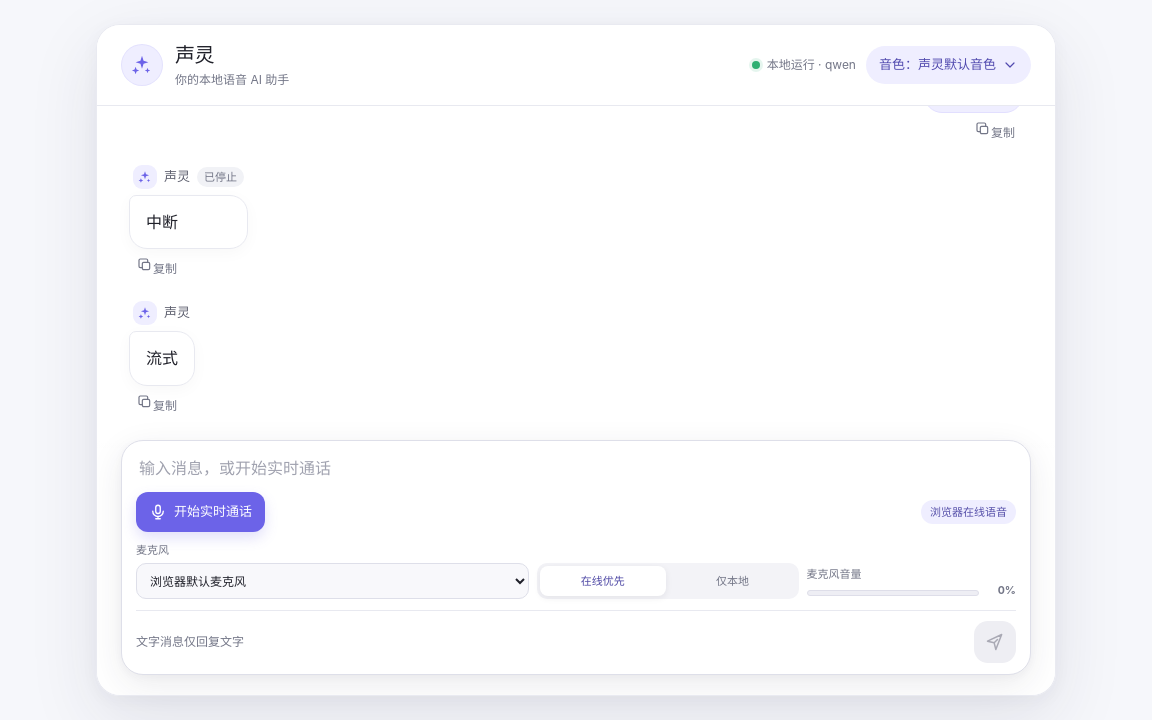
Scenario: App › opens and closes the accessible voice dialog
(page scrolled)
Step 1. Click the button "音色：声灵默认音色" → (948,65), box 866,46 -> 1031,84
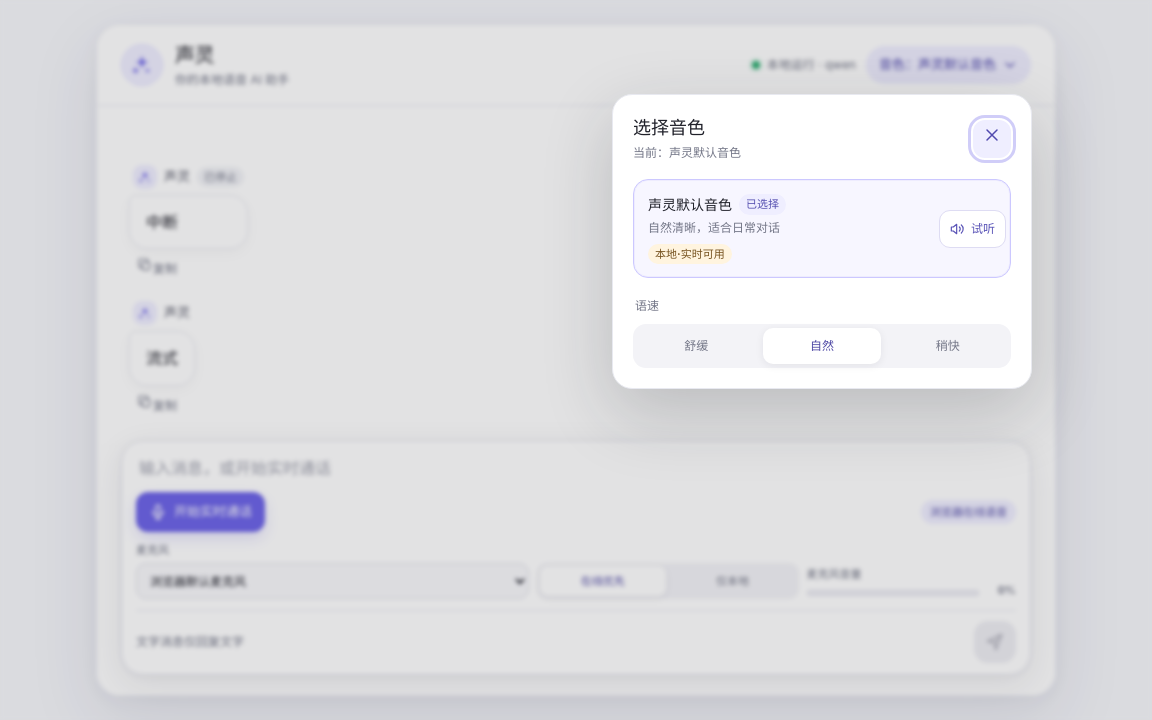
Check: the dialog "选择音色" is shown, box 612,94 -> 1032,389
Step 2. Press Escape
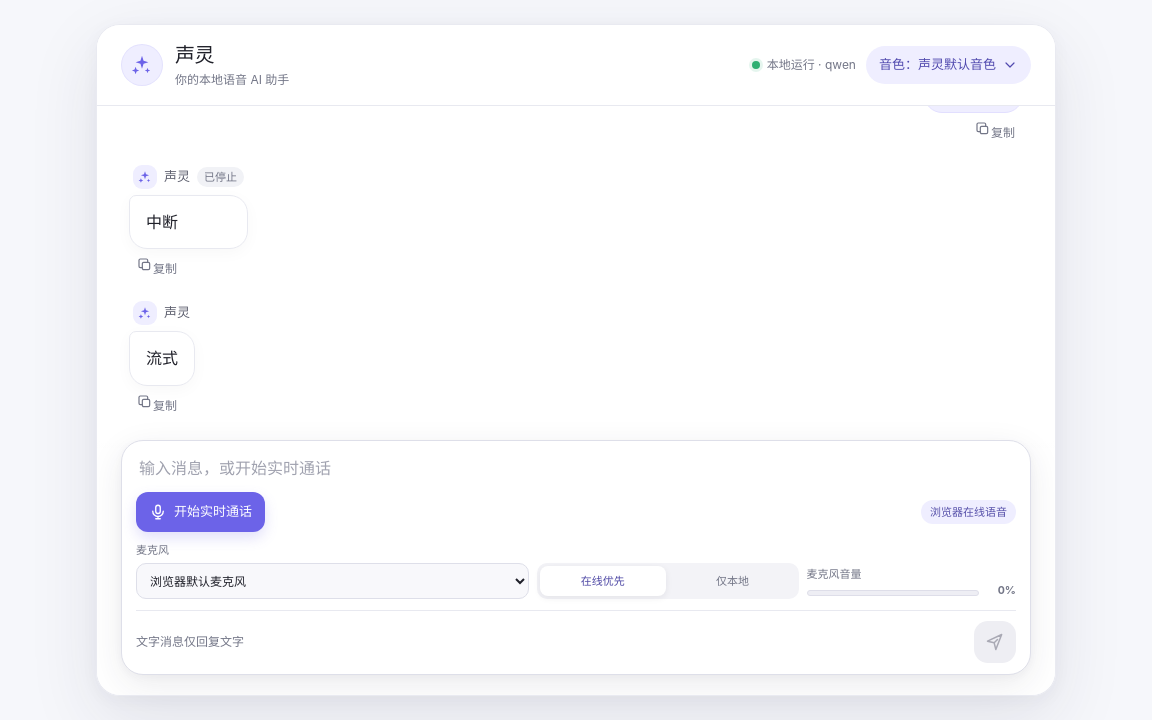
Check: the heading "选择音色" is gone
